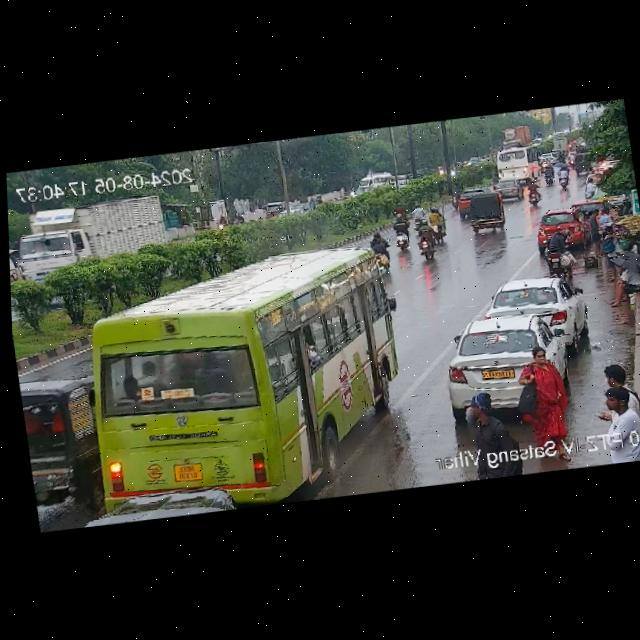bus: (61, 259, 413, 523), (487, 142, 542, 180)
car: (439, 311, 581, 417), (19, 376, 100, 502), (486, 273, 582, 339), (467, 193, 508, 235), (536, 207, 583, 241), (489, 179, 521, 201), (261, 199, 288, 219), (457, 189, 474, 217), (308, 193, 323, 205), (546, 151, 556, 164)
motorcycle: (538, 223, 577, 277), (413, 221, 445, 261), (369, 231, 391, 273), (390, 212, 413, 251), (429, 206, 448, 240), (406, 202, 429, 230), (523, 176, 542, 208), (552, 160, 572, 188), (216, 213, 246, 231), (388, 201, 411, 221), (543, 161, 559, 187), (450, 186, 461, 210), (489, 169, 501, 187), (556, 149, 566, 161), (308, 195, 315, 208)
person: (517, 344, 568, 438), (590, 389, 640, 440), (600, 257, 640, 307), (587, 205, 621, 255), (584, 178, 598, 198)
truck: (19, 190, 174, 265), (492, 124, 533, 150)
